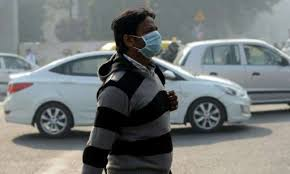mask: (132, 14, 165, 59)
